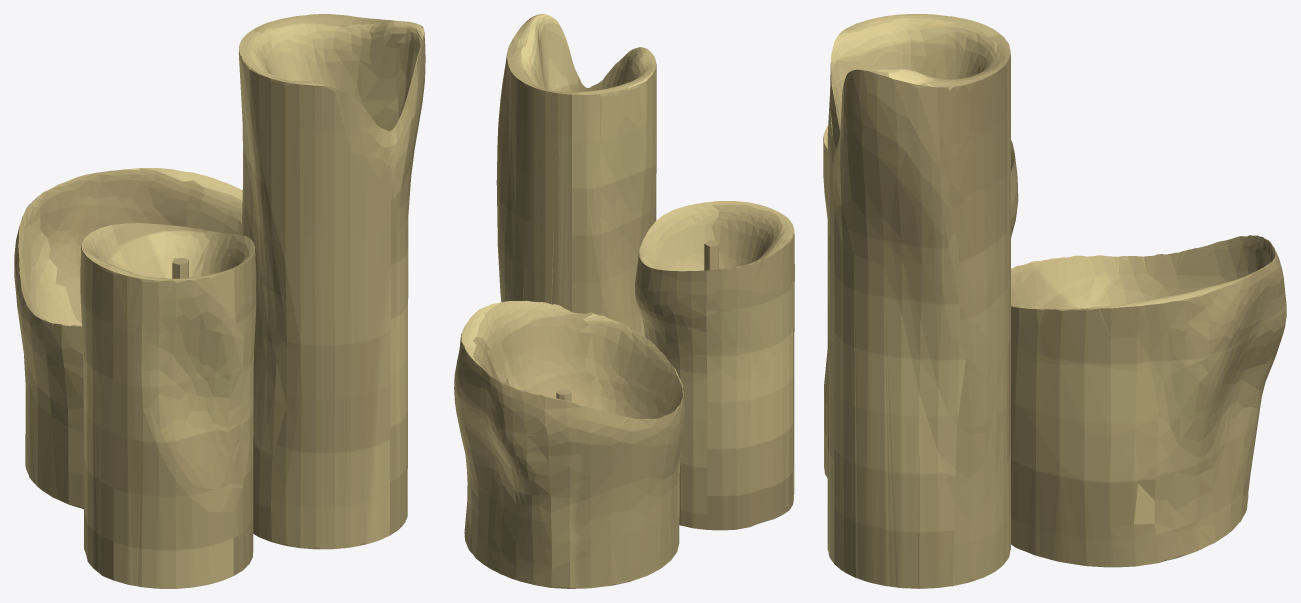
Rendered from candle1a.glb.
3 renders of one model, left to right at view 1: azimuth 30°, elevation 25°; view 2: azimuth 150°, elevation 25°; view 3: azimuth 270°, elevation 25°, orthographic. The views are drawn at different scales.
Visible parts, largest first — view 1: candle3.020; view 2: candle3.020; view 3: candle3.020.
Part boxes in pixels (x1=…): candle3.020: x1=14, y1=14, x2=425, y2=588; candle3.020: x1=454, y1=14, x2=794, y2=588; candle3.020: x1=823, y1=14, x2=1286, y2=588.
Size of the model in its own units: 0.4302 by 0.6264 by 0.5055.
1 material, 1 textured.
